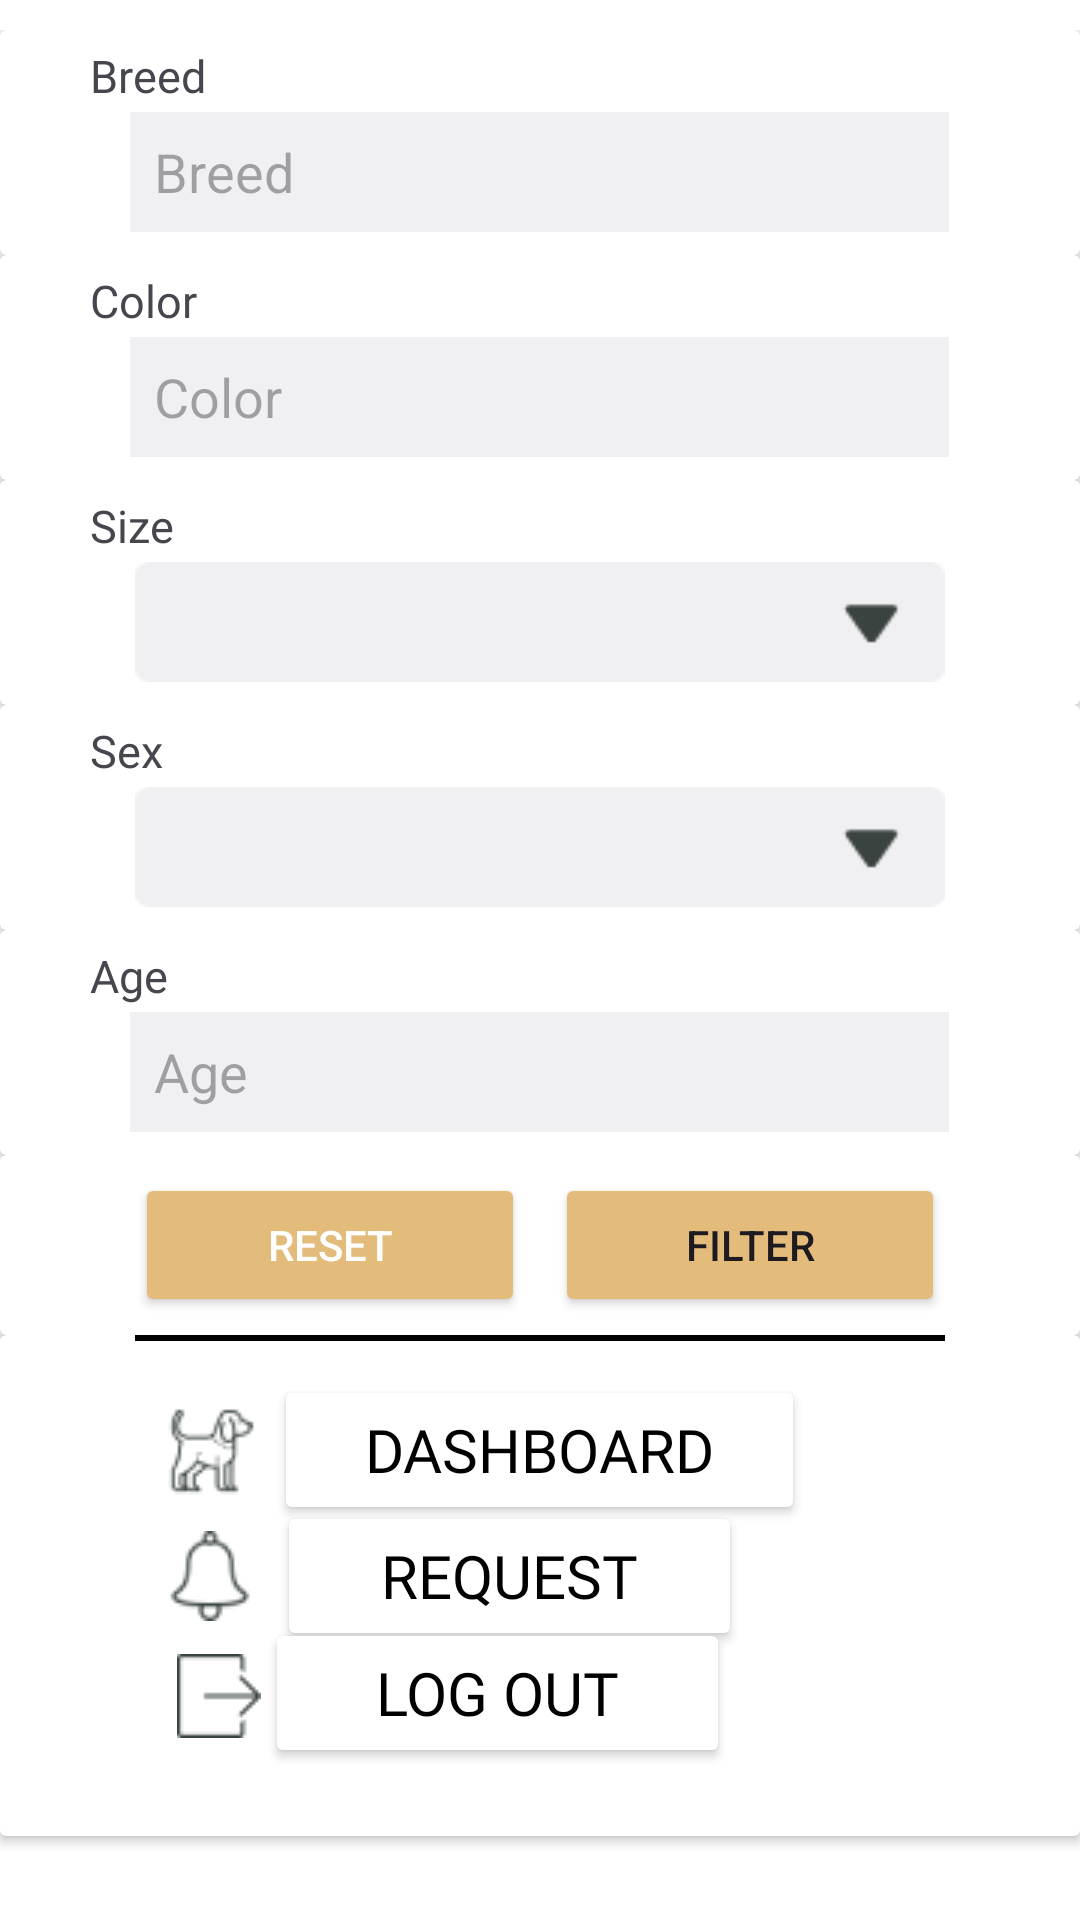

Icon click points for this 1080*1920 phone screenshot, format (x=x, y=y):
dog: (x=212, y=1451)
notification: (x=210, y=1576)
